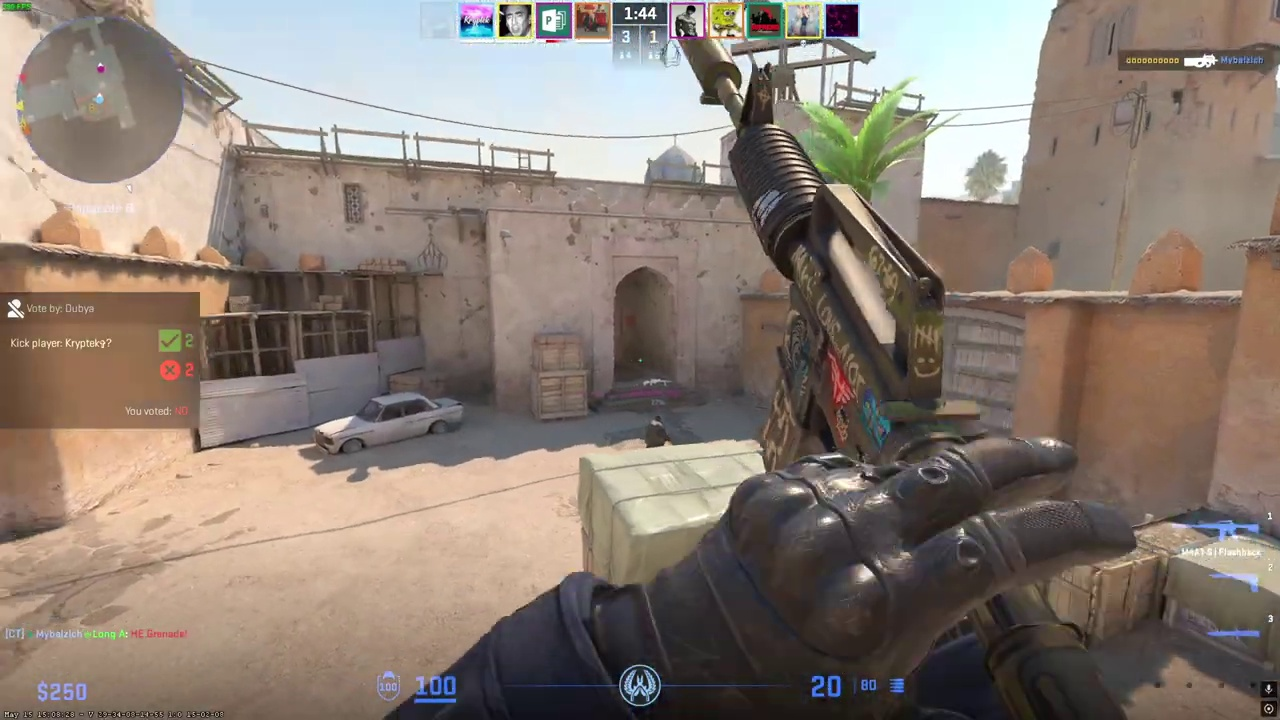CT: (645, 415, 669, 448)
